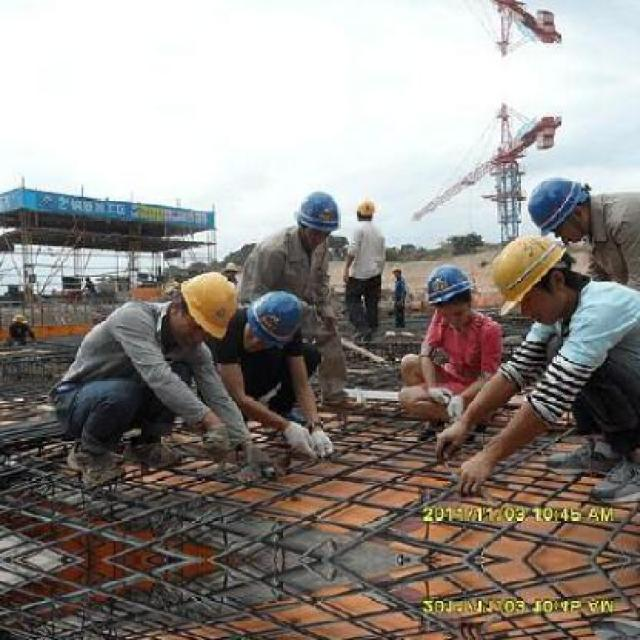helmet: (494, 226, 588, 320), (166, 263, 240, 349), (522, 170, 598, 245), (420, 260, 478, 326), (247, 288, 307, 343), (294, 187, 340, 250), (354, 191, 378, 224)
